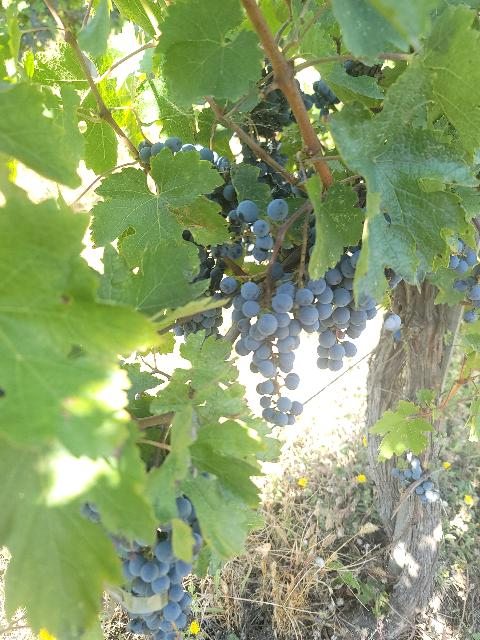grapes: (232, 282, 299, 426), (318, 251, 376, 371), (278, 279, 334, 326)
